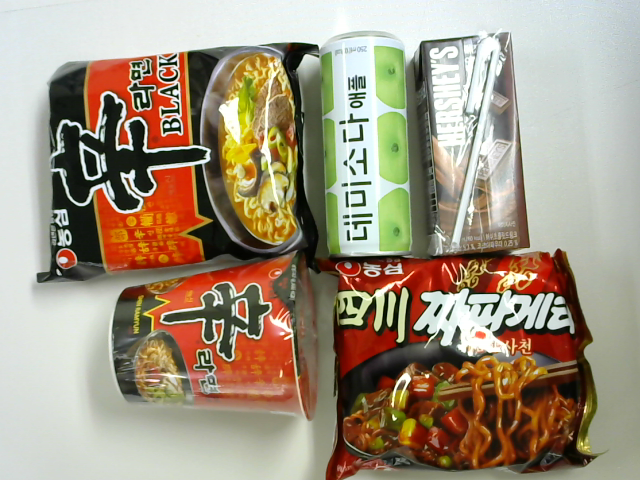Demisoda_Apple_Can_250ml: (321, 32, 411, 260)
Hush_Choco_Drink: (415, 26, 533, 258)
Sichuan_Chapaghetti: (331, 256, 598, 480)
Sinramen_Black: (33, 42, 313, 282)
Sinramen_small: (111, 254, 323, 430)
